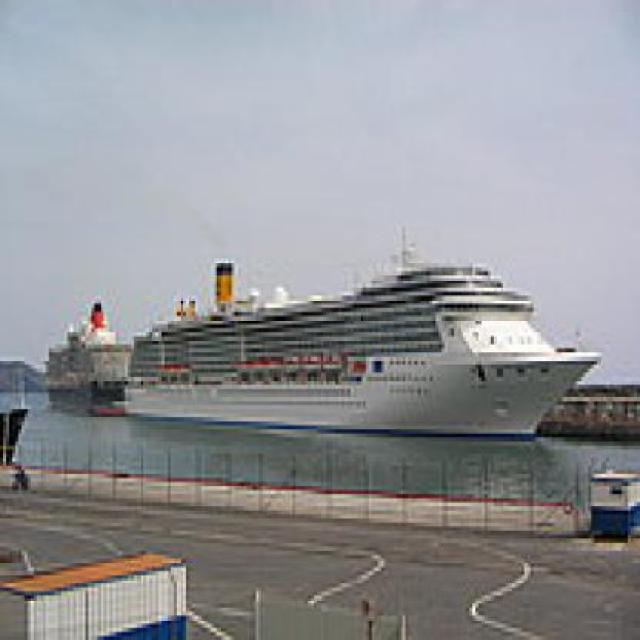cruise: (117, 212, 611, 455)
